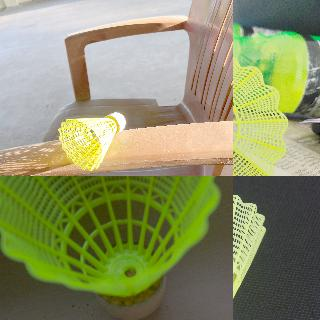shuttlecock: (0, 176, 220, 314), (233, 53, 287, 175), (233, 191, 267, 319), (58, 112, 124, 170)
